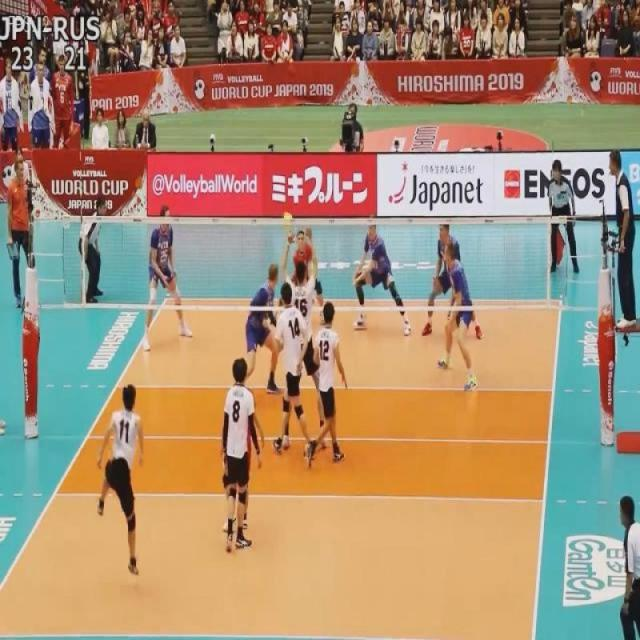volleyball: (282, 210, 294, 229)
